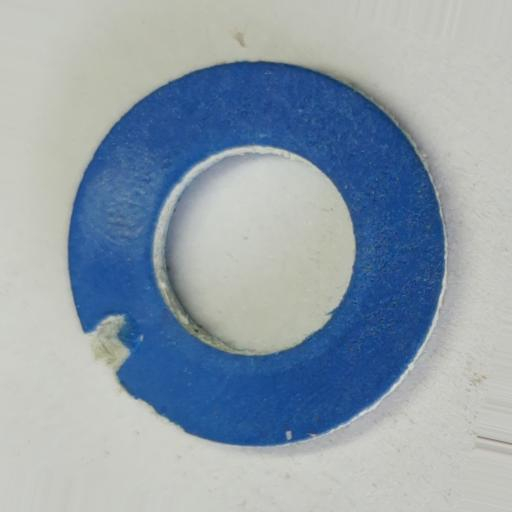defect: (84, 312, 144, 376)
